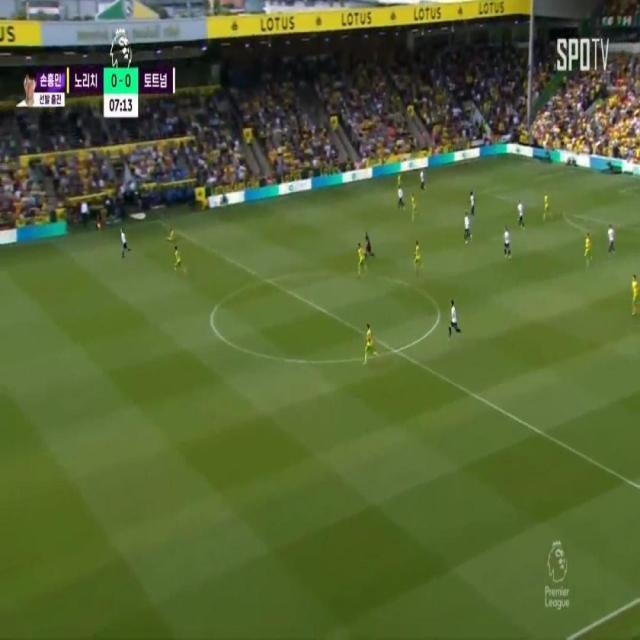player: (363, 323, 375, 361), (631, 275, 640, 315), (606, 223, 615, 257), (450, 300, 459, 332), (516, 198, 525, 227), (463, 211, 471, 243), (503, 228, 511, 258), (585, 233, 593, 262), (358, 243, 366, 272), (173, 244, 180, 273), (414, 242, 420, 272), (543, 193, 549, 222), (411, 193, 417, 221), (398, 186, 404, 211), (470, 190, 476, 213), (419, 169, 425, 191), (169, 226, 176, 239), (398, 170, 401, 187)
referee: (120, 228, 129, 257), (365, 232, 371, 258)
